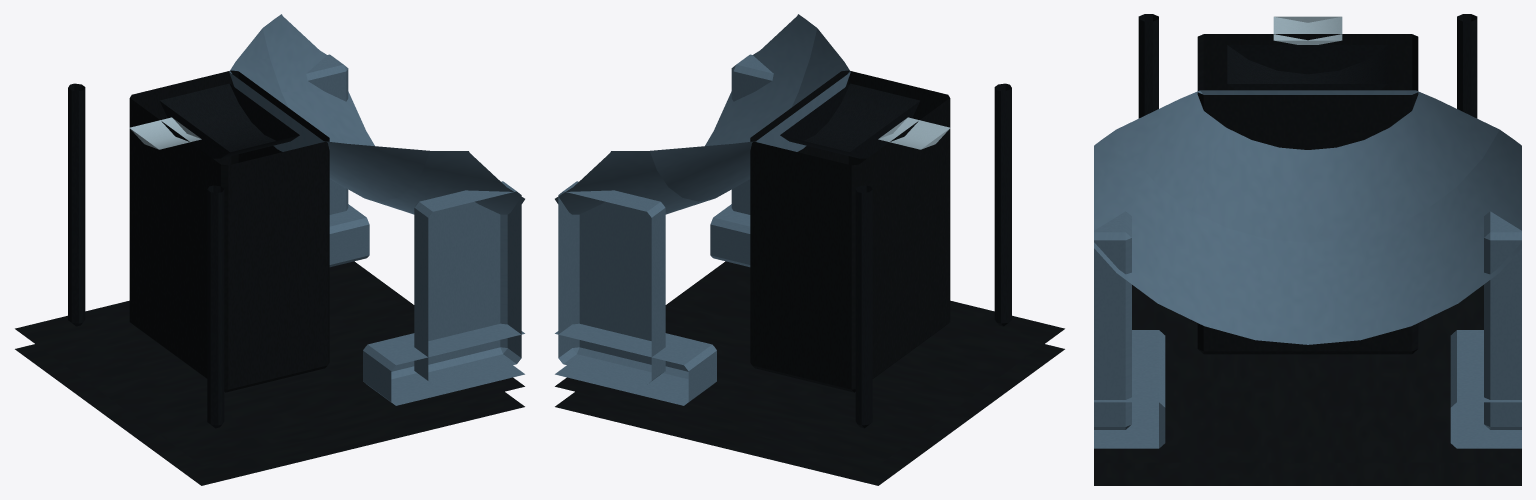
Rendered from cell_11.obj.
3 views of the same model, side by side, from view 1: azimuth 30°, elevation 25°; view 2: azimuth 150°, elevation 25°; view 3: azimuth 270°, elevation 25° (orthographic). The views are drawn at different scales.
Visible parts, largest first — view 1: cell_11; view 2: cell_11; view 3: cell_11.
Boxes of the visible parts, box(x1,y1,x2,y2) form: cell_11: box(15, 14, 524, 485); cell_11: box(555, 14, 1064, 485); cell_11: box(1094, 14, 1521, 485).
Size of the model in its own units: 1 by 0.796 by 1.
